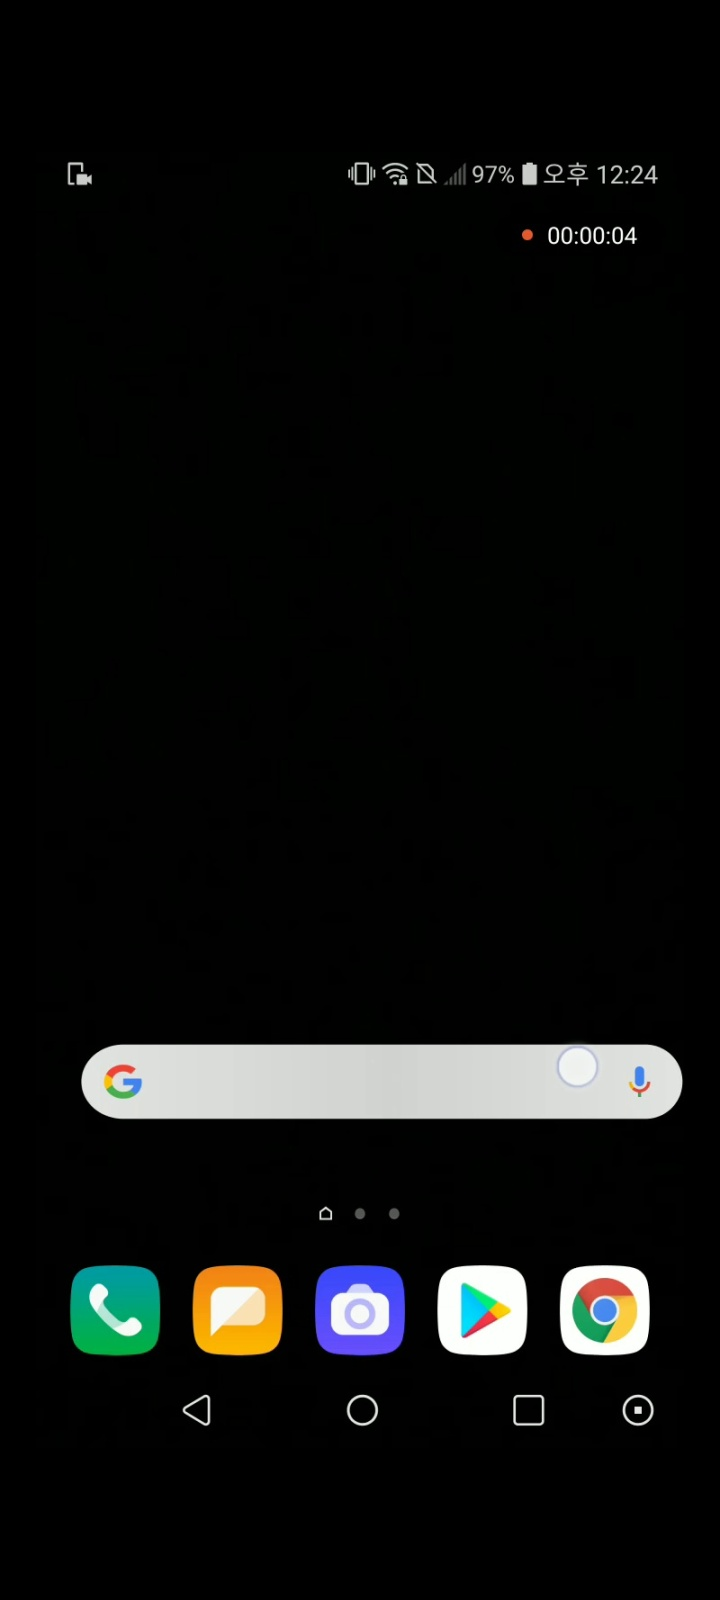Cursor: (555, 1046, 600, 1092)
